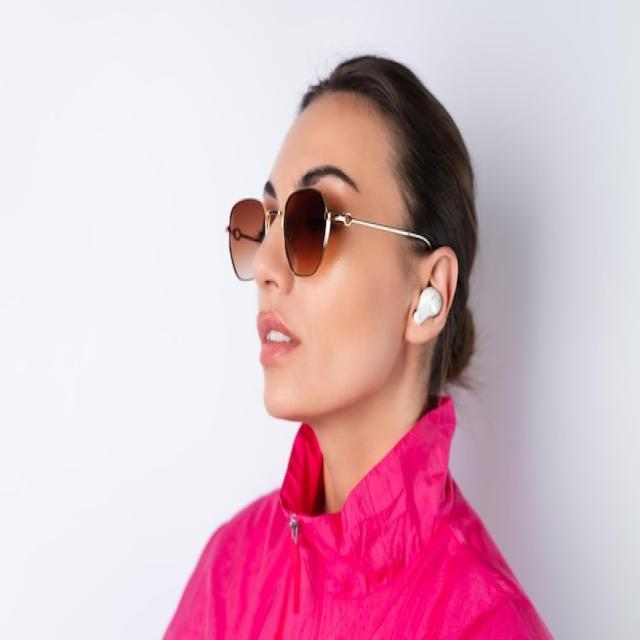airpods: (410, 283, 445, 329)
